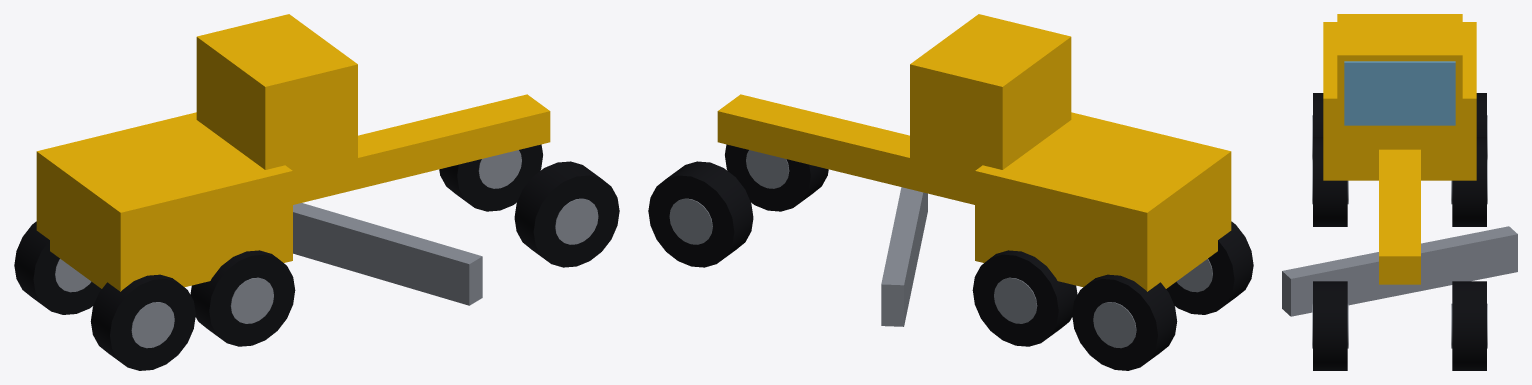
File: motor-grader.glb
3 views of the same model, side by side, from view 1: azimuth 30°, elevation 25°; view 2: azimuth 150°, elevation 25°; view 3: azimuth 270°, elevation 25° (orthographic). The views are drawn at different scales.
Size of the model in its own units: 7.7 by 3.5 by 3.39.
